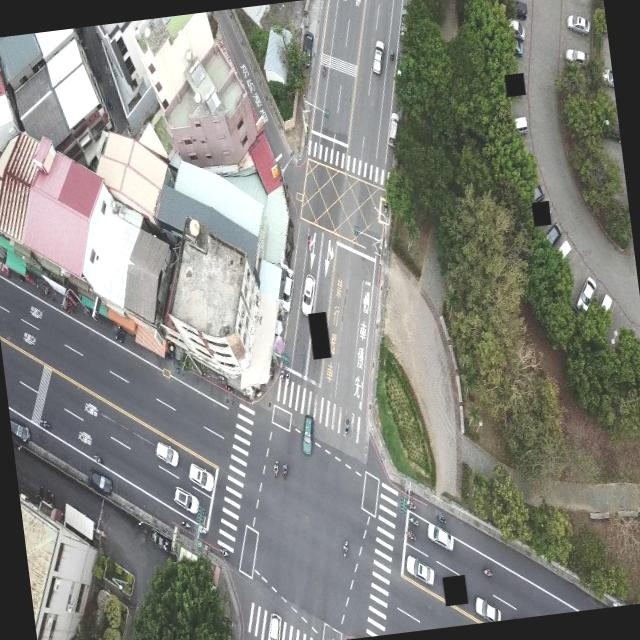bike: (340, 412, 354, 439), (270, 457, 280, 477), (340, 538, 349, 556), (280, 460, 288, 478), (480, 564, 491, 576)
car: (169, 481, 202, 519), (404, 551, 436, 586), (424, 518, 455, 552), (186, 459, 214, 494), (296, 272, 319, 314), (276, 270, 298, 313), (572, 276, 598, 312), (472, 592, 500, 622), (153, 436, 180, 467), (88, 464, 114, 496), (299, 413, 317, 455), (564, 12, 590, 37), (368, 38, 386, 74), (10, 414, 30, 444), (562, 44, 588, 66), (264, 610, 283, 640), (386, 109, 399, 148)
